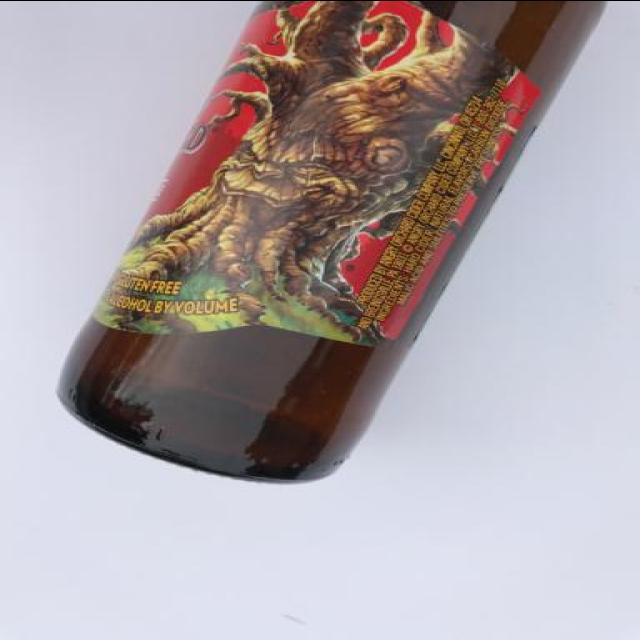Glass Bottle: (54, 1, 612, 486)
